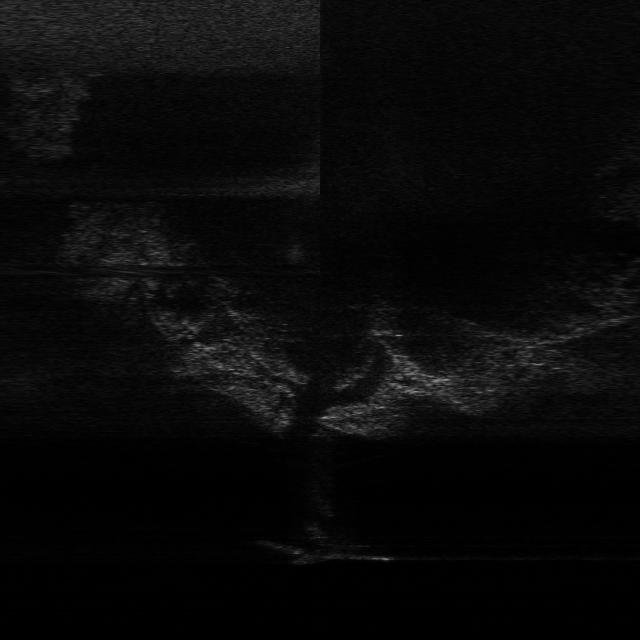plane: (252, 522, 401, 566)
